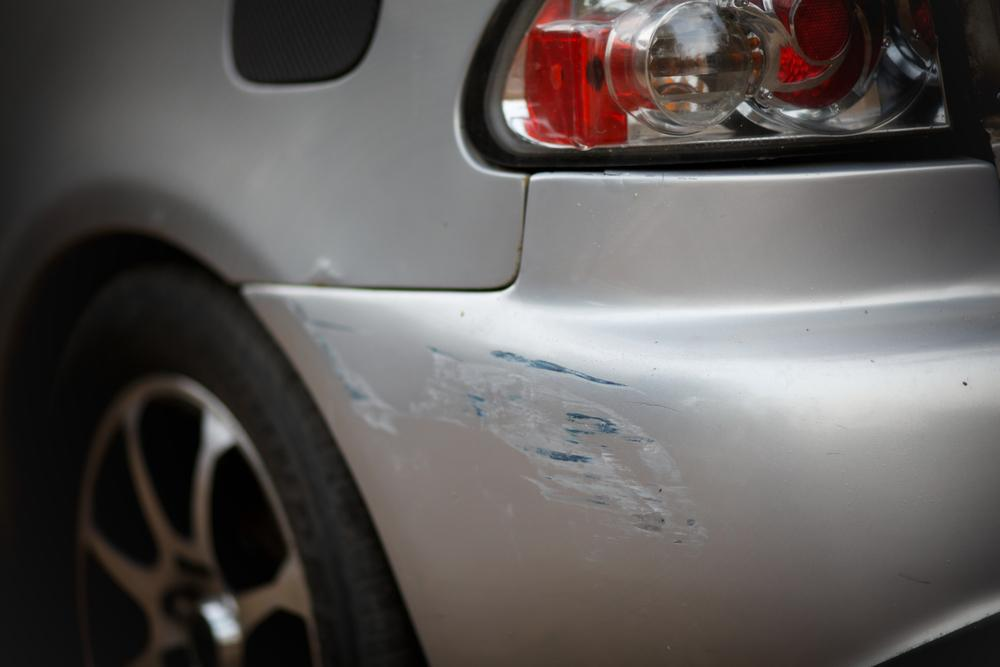scratch: (292, 306, 716, 551)
